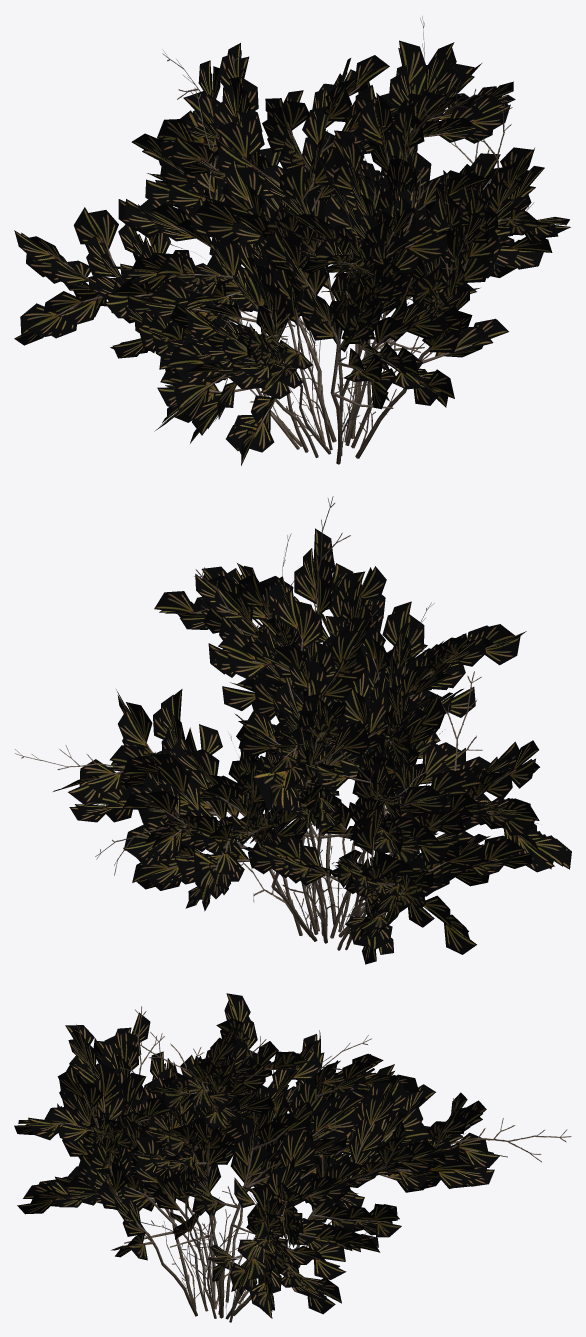
File: bush_a.glb
3 renders of one model, top to bottom at view 1: azimuth 30°, elevation 25°; view 2: azimuth 150°, elevation 25°; view 3: azimuth 270°, elevation 25°, orthographic. The views are drawn at different scales.
Visible parts, largest first — view 1: wild_rooibos_bush_a; view 2: wild_rooibos_bush_a; view 3: wild_rooibos_bush_a.
Boxes of the visible parts, x1,y1,x2,y2 form: wild_rooibos_bush_a: (14, 16, 570, 465); wild_rooibos_bush_a: (15, 496, 571, 964); wild_rooibos_bush_a: (14, 993, 571, 1322).
Size of the model in its own units: 0.6966 by 0.5395 by 0.8434.
Materials: 3 (3 with a texture image).
